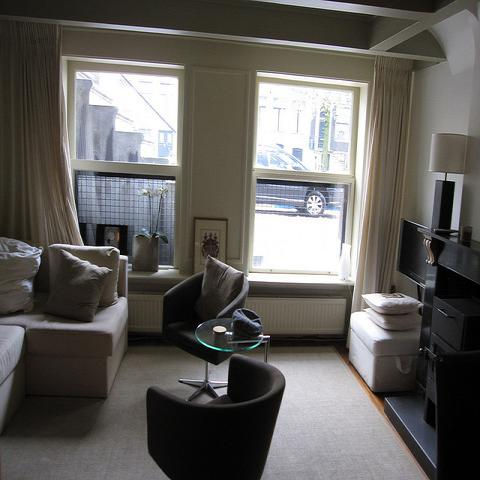car: (255, 142, 336, 219)
